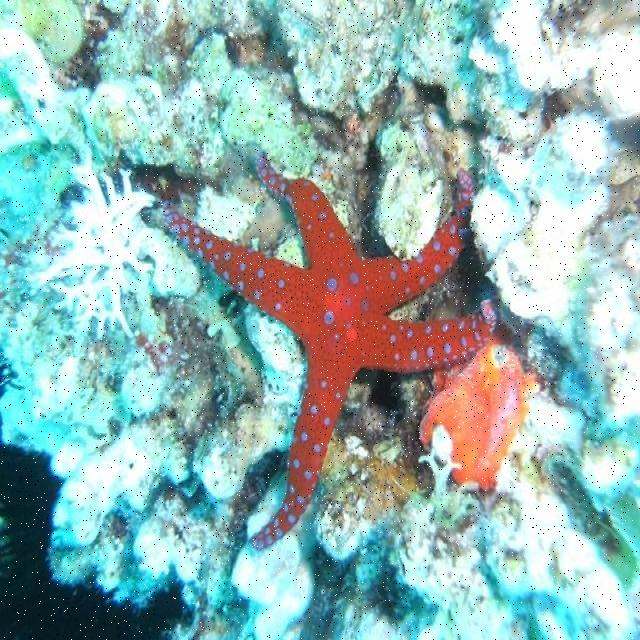reefs: (136, 144, 543, 551)
